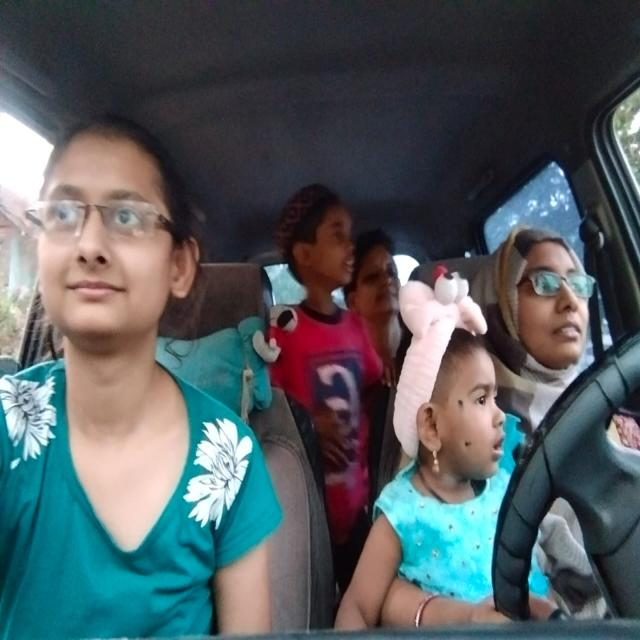child: (389, 330, 506, 483)
person: (29, 114, 198, 346), (506, 227, 596, 371), (279, 182, 355, 292), (355, 242, 403, 319)
